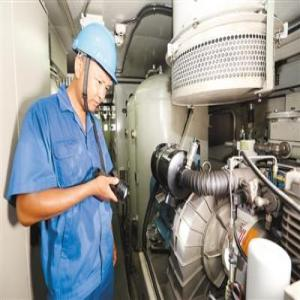blue: (67, 19, 121, 115)
